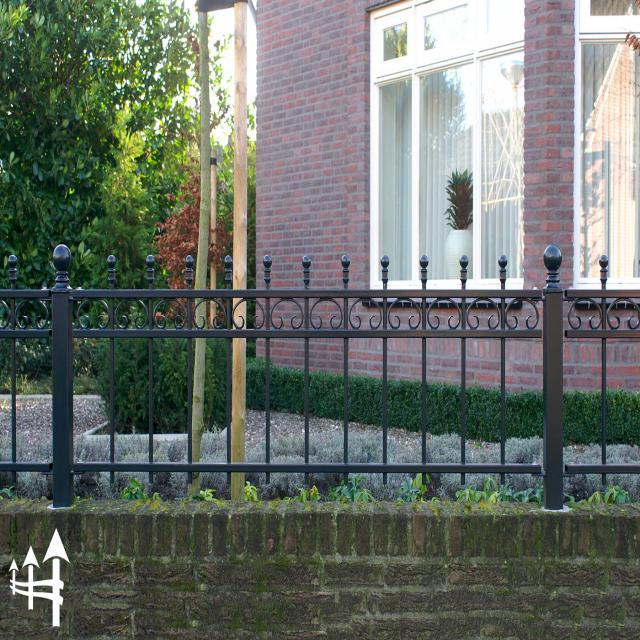fence line: (9, 258, 634, 508)
